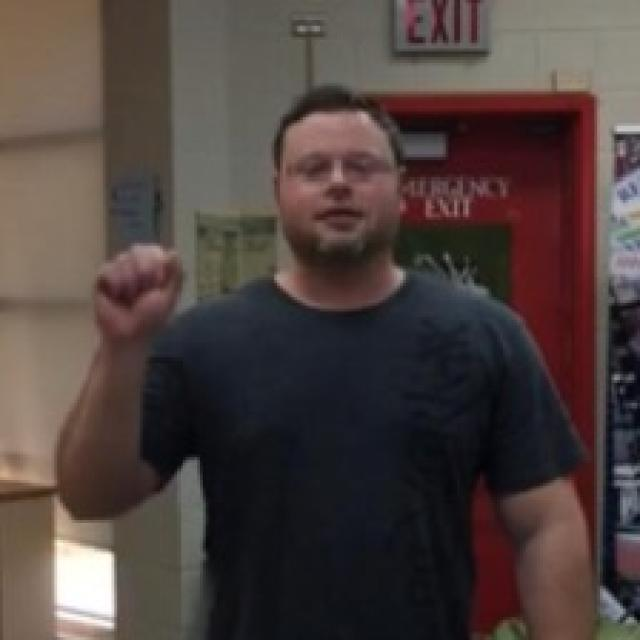yes: (89, 234, 190, 344)
